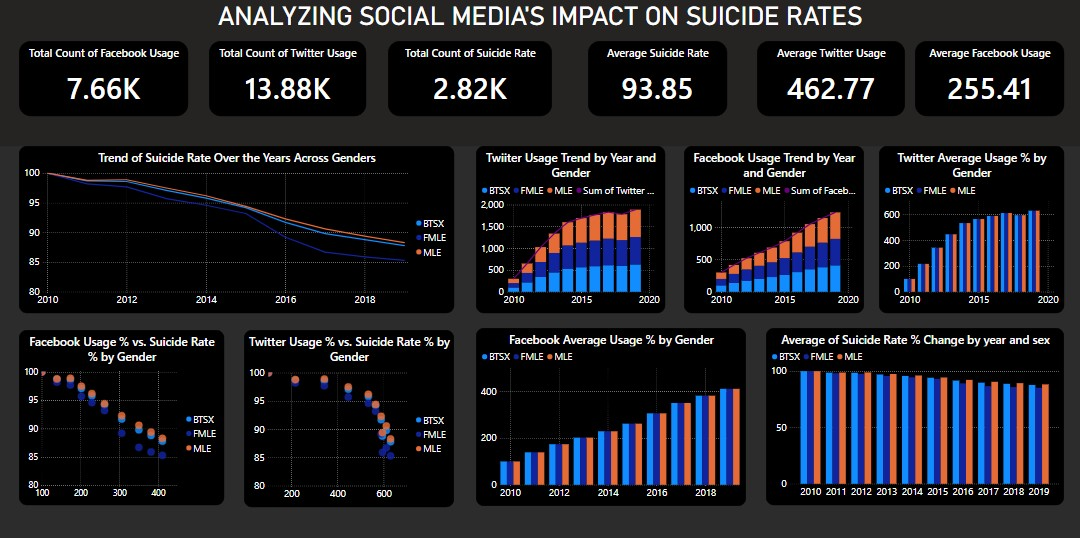

This screenshot's page, from the dashboard's own definition file:
{"tool":"powerbi","page":{"name":"Dashboard","canvas":[2700,1350],"ordinal":0},"visuals":[{"type":"textbox","box":[0,0,2700,367.5],"z":0},{"type":"lineChart","title":"Trend of Suicide Rate  Over the Years Across Genders","fields":{"Category":["social-media-impact-on-suicide-rates.year"],"Y":["Sum(social-media-impact-on-suicide-rates.Suicide Rate % change since 2010)"],"Series":["social-media-impact-on-suicide-rates.sex"]},"box":[47.5,367.5,1087.5,417.5],"z":1000},{"type":"lineStackedColumnComboChart","title":"Facebook Usage Trend by Year and Gender","fields":{"Category":["social-media-impact-on-suicide-rates.year"],"Y":["Sum(social-media-impact-on-suicide-rates.Facebook user count % change since 2010)"],"Y2":["Sum(social-media-impact-on-suicide-rates.Facebook user count % change since 2010)"],"Series":["social-media-impact-on-suicide-rates.sex"]},"box":[1710,367.5,450,417.5],"z":2000},{"type":"lineStackedColumnComboChart","title":"Twiiter Usage Trend by Year and Gender","fields":{"Category":["social-media-impact-on-suicide-rates.year"],"Y":["Sum(social-media-impact-on-suicide-rates.Twitter user count % change since 2010)"],"Y2":["Sum(social-media-impact-on-suicide-rates.Twitter user count % change since 2010)"],"Series":["social-media-impact-on-suicide-rates.sex"]},"box":[1190,367.5,472.5,417.5],"z":3000},{"type":"scatterChart","title":"Twitter Usage % vs. Suicide Rate % by Gender","fields":{"X":["Sum(social-media-impact-on-suicide-rates.Twitter user count % change since 2010)"],"Y":["Sum(social-media-impact-on-suicide-rates.Suicide Rate % change since 2010)"],"Category":["social-media-impact-on-suicide-rates.Twitter user count % change since 2010"],"Series":["social-media-impact-on-suicide-rates.sex"]},"box":[610,827.5,525,442.5],"z":4000},{"type":"scatterChart","title":"Facebook Usage % vs. Suicide Rate % by Gender","fields":{"Y":["Sum(social-media-impact-on-suicide-rates.Suicide Rate % change since 2010)"],"X":["Sum(social-media-impact-on-suicide-rates.Facebook user count % change since 2010)"],"Category":["social-media-impact-on-suicide-rates.Facebook user count % change since 2010"],"Series":["social-media-impact-on-suicide-rates.sex"]},"box":[47.5,827.5,512.5,437.5],"z":5000},{"type":"clusteredColumnChart","title":"Average of Suicide Rate % Change by year and sex","fields":{"Category":["social-media-impact-on-suicide-rates.year"],"Y":["Avg(social-media-impact-on-suicide-rates.Suicide Rate % change since 2010)"],"Series":["social-media-impact-on-suicide-rates.sex"]},"box":[1915,822.5,745,442.5],"z":6000},{"type":"clusteredColumnChart","title":"Facebook Average Usage % by Gender","fields":{"Category":["social-media-impact-on-suicide-rates.year"],"Y":["Avg(social-media-impact-on-suicide-rates.Facebook user count % change since 2010)"],"Series":["social-media-impact-on-suicide-rates.sex"]},"box":[1190,822.5,675,445],"z":7000},{"type":"clusteredColumnChart","title":"Twitter Average Usage % by Gender","fields":{"Category":["social-media-impact-on-suicide-rates.year"],"Y":["Avg(social-media-impact-on-suicide-rates.Twitter user count % change since 2010)"],"Series":["social-media-impact-on-suicide-rates.sex"]},"box":[2197.5,367.5,462.5,417.5],"z":8000},{"type":"card","title":"Total Count  of Suicide Rate","fields":{"Values":["Sum(social-media-impact-on-suicide-rates.Suicide Rate % change since 2010)"]},"box":[970,105,410,187.5],"z":9000},{"type":"card","title":"Total Count of Twitter Usage","fields":{"Values":["Sum(social-media-impact-on-suicide-rates.Twitter user count % change since 2010)"]},"box":[522.5,105,392.5,187.5],"z":10000},{"type":"card","title":"Total Count of Facebook Usage","fields":{"Values":["Sum(social-media-impact-on-suicide-rates.Facebook user count % change since 2010)"]},"box":[47.5,105,422.5,187.5],"z":11000},{"type":"card","title":"Average Suicide Rate","fields":{"Values":["Avg(social-media-impact-on-suicide-rates.Suicide Rate % change since 2010)"]},"box":[1470,105,347.5,187.5],"z":12000},{"type":"card","title":"Average Twitter Usage ","fields":{"Values":["Avg(social-media-impact-on-suicide-rates.Twitter user count % change since 2010)"]},"box":[1892.5,105,370,187.5],"z":13000},{"type":"card","title":"Average Facebook Usage","fields":{"Values":["Avg(social-media-impact-on-suicide-rates.Facebook user count % change since 2010)"]},"box":[2287.5,105,372.5,187.5],"z":14000}]}

Visuals, with their boxes in screenshot pixels (x1, y1, x2, y2), scaled from the page's 2700x1350 canvas onto the 1080x538 screenshot:
textbox: (0, 0, 1079, 146)
"Trend of Suicide Rate  Over the Years Across Genders" lineChart: (19, 146, 454, 313)
"Facebook Usage Trend by Year and Gender" lineStackedColumnComboChart: (684, 146, 864, 313)
"Twiiter Usage Trend by Year and Gender" lineStackedColumnComboChart: (476, 146, 665, 313)
"Twitter Usage % vs. Suicide Rate % by Gender" scatterChart: (244, 330, 454, 506)
"Facebook Usage % vs. Suicide Rate % by Gender" scatterChart: (19, 330, 224, 504)
"Average of Suicide Rate % Change by year and sex" clusteredColumnChart: (766, 328, 1064, 504)
"Facebook Average Usage % by Gender" clusteredColumnChart: (476, 328, 746, 505)
"Twitter Average Usage % by Gender" clusteredColumnChart: (879, 146, 1064, 313)
"Total Count  of Suicide Rate" card: (388, 42, 552, 117)
"Total Count of Twitter Usage" card: (209, 42, 366, 117)
"Total Count of Facebook Usage" card: (19, 42, 188, 117)
"Average Suicide Rate" card: (588, 42, 727, 117)
"Average Twitter Usage " card: (757, 42, 905, 117)
"Average Facebook Usage" card: (915, 42, 1064, 117)
